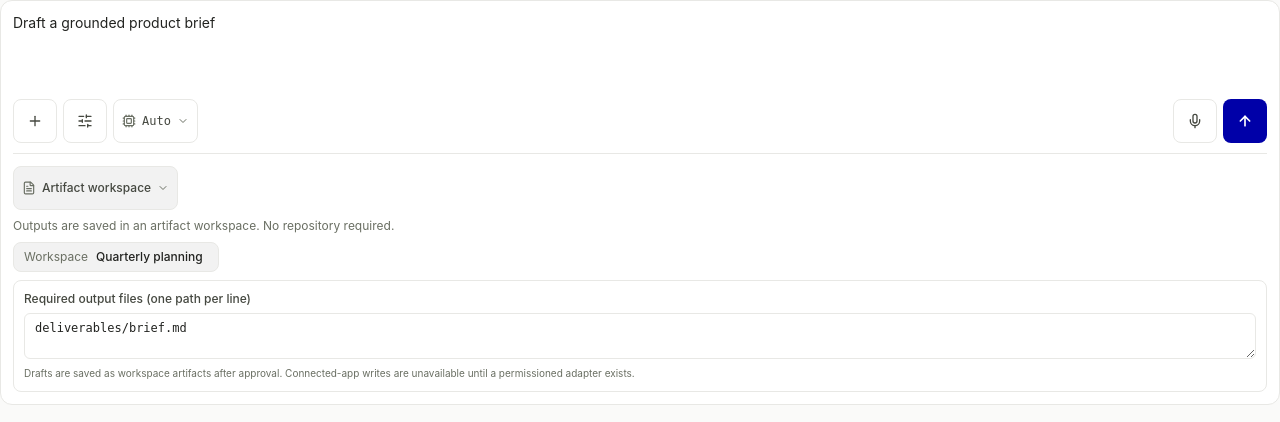
TaskComposer › allows an artifact-workspace draft without a GitHub repository and keeps connected-app unavailable
Check: the text "Outputs are saved in an artifact workspace. No repository required." is shown, box [13, 218, 394, 233]
Check: the field named "Artifact workspace name" holds "Quarterly planning", box [96, 249, 208, 265]
Click the button with aria-label "Work in: Artifact workspace". click: (96, 188)
box: [13, 166, 178, 210]
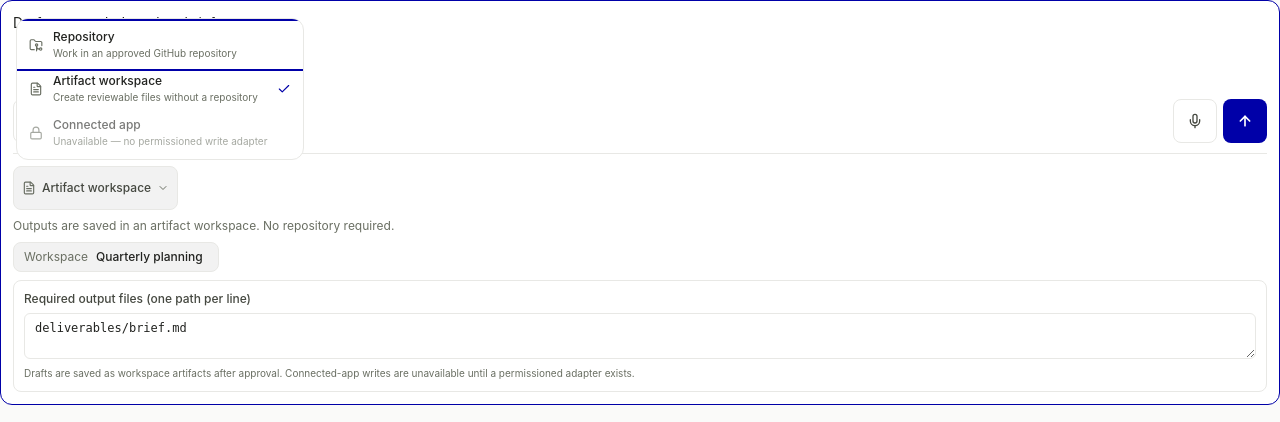
Check: the text "Unavailable — no permissioned write adapter" is shown, box [53, 133, 291, 149]
